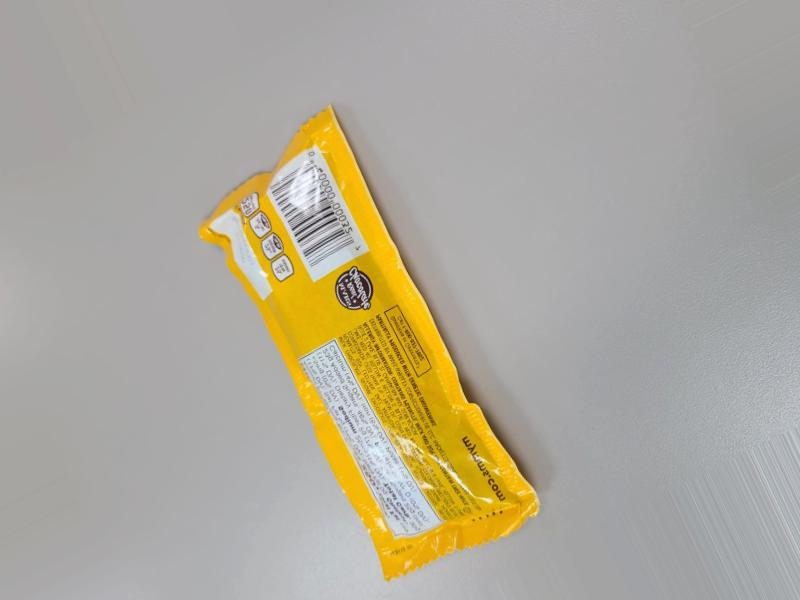m&m: (179, 92, 534, 596)
